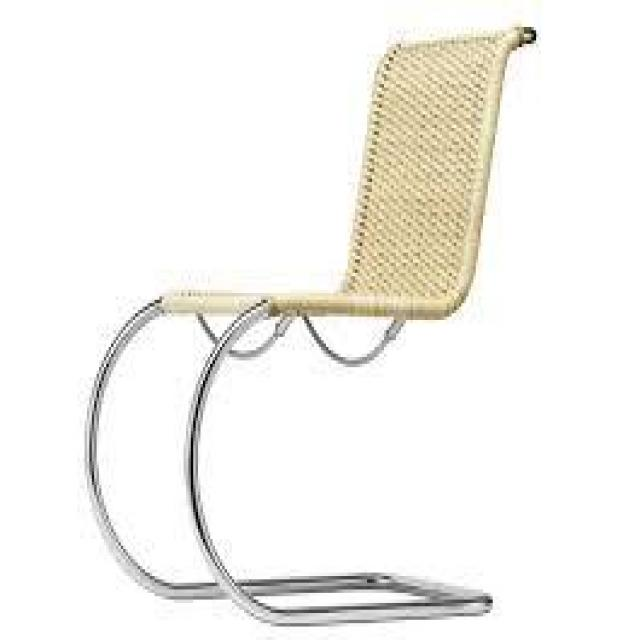chair: (44, 17, 562, 616)
